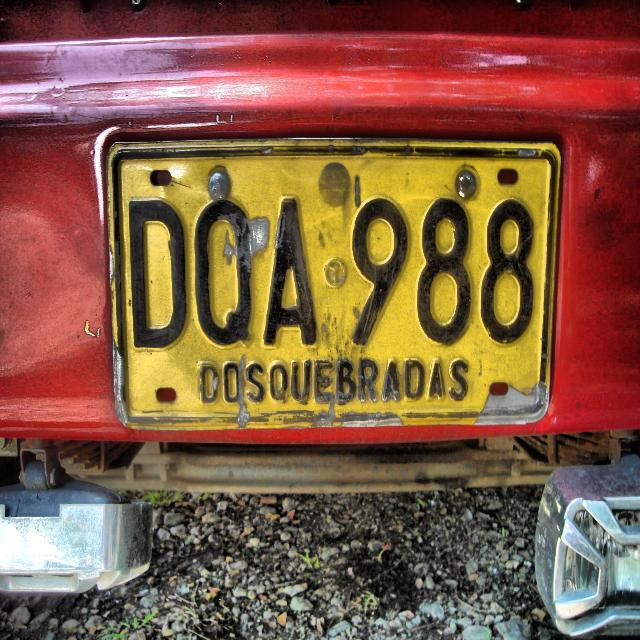plate: (104, 142, 564, 430)
